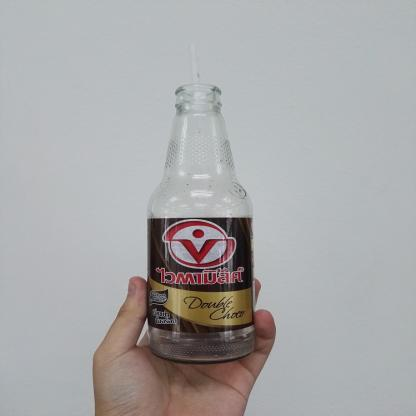Can: (130, 73, 283, 374)
